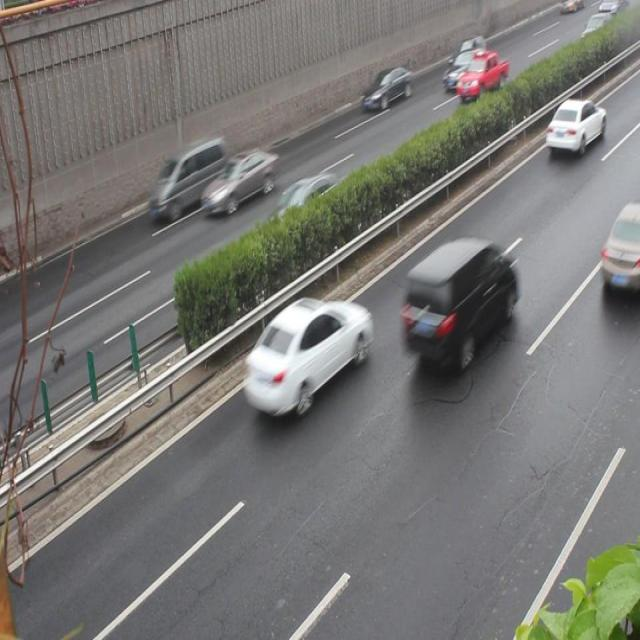car: (243, 294, 370, 419), (402, 238, 514, 368), (262, 171, 349, 247), (200, 146, 278, 216), (600, 200, 640, 302), (545, 97, 605, 157)
truck: (147, 137, 226, 221)
